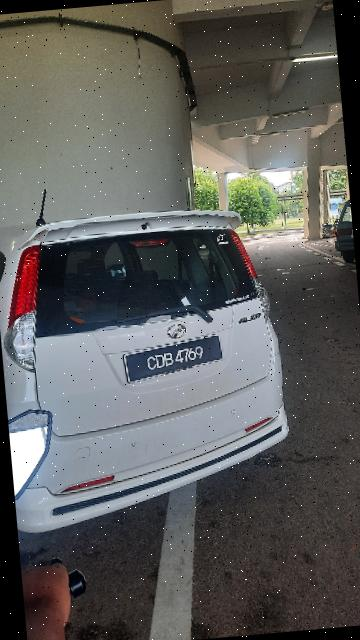License_Plate: (120, 333, 239, 386)
car: (1, 201, 300, 534)
